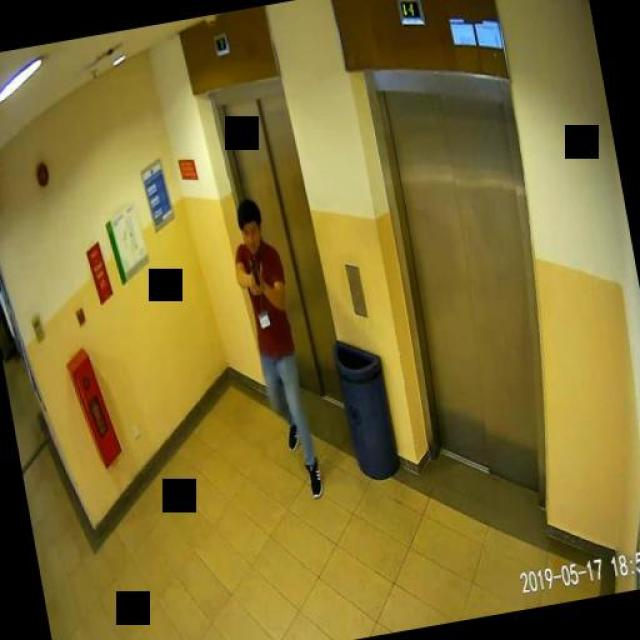gun: (244, 254, 260, 291)
